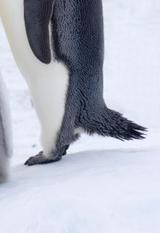Emperor Penguin: (0, 0, 119, 170), (0, 0, 25, 190)
